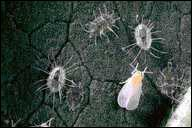whitefly: (117, 62, 150, 111)
